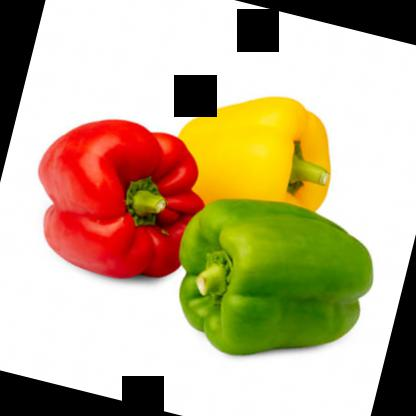corn: (157, 180, 383, 386), (16, 98, 217, 292), (166, 74, 350, 242)
